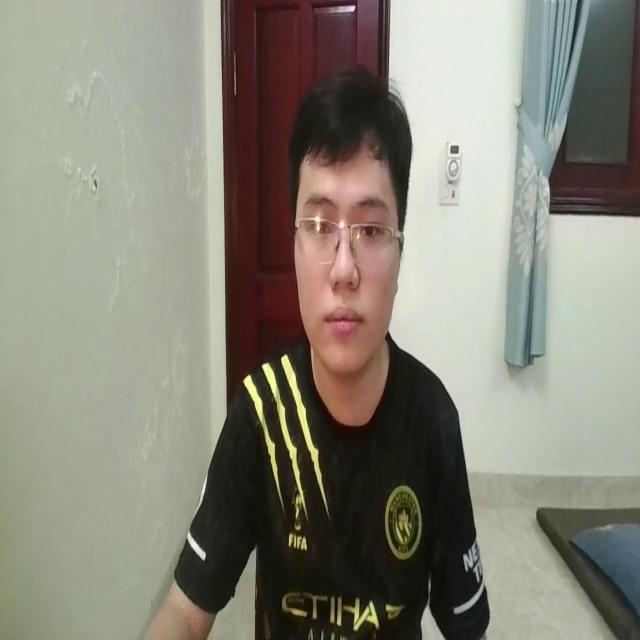student: (140, 58, 487, 640)
